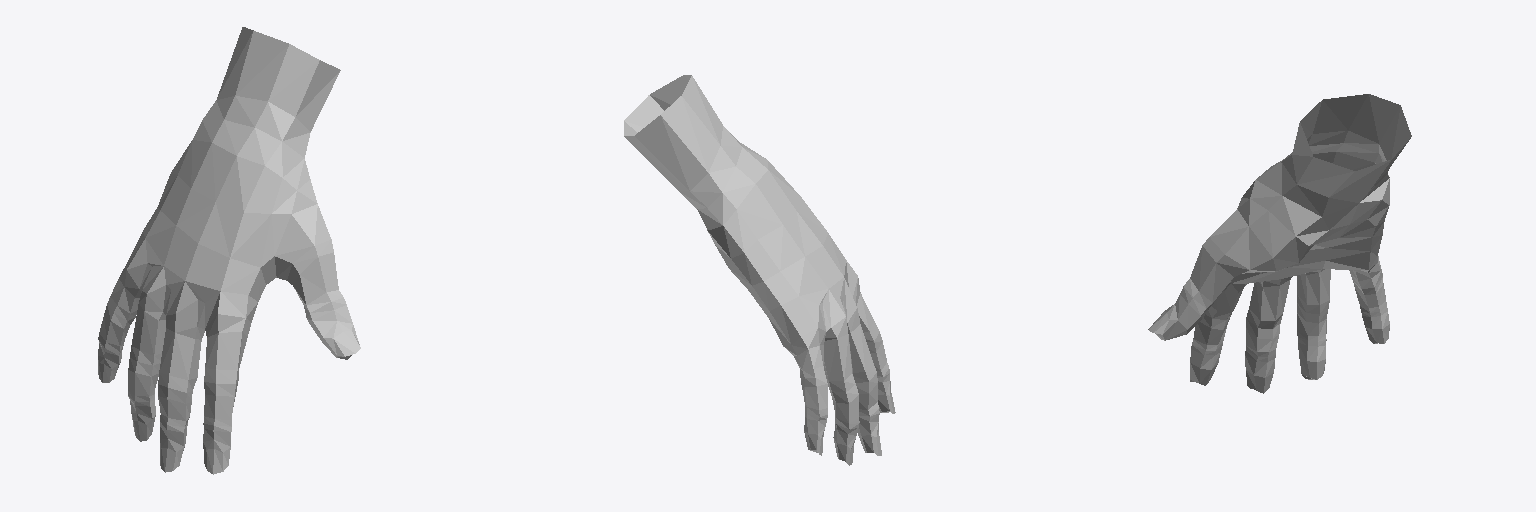
File: hand.obj
The picture shows the model from 3 angles: view 1: azimuth 30°, elevation 25°; view 2: azimuth 150°, elevation 25°; view 3: azimuth 270°, elevation 25°; orthographic projection.
Parts seen in each view (by area): view 1: Plane005_Mesh; view 2: Plane005_Mesh; view 3: Plane005_Mesh.
Boxes of the visible parts, x1=… form: Plane005_Mesh: x1=98, y1=27, x2=360, y2=474; Plane005_Mesh: x1=624, y1=75, x2=895, y2=465; Plane005_Mesh: x1=1148, y1=94, x2=1411, y2=393.
Size of the model in its own units: 5.81 by 9.55 by 6.24.